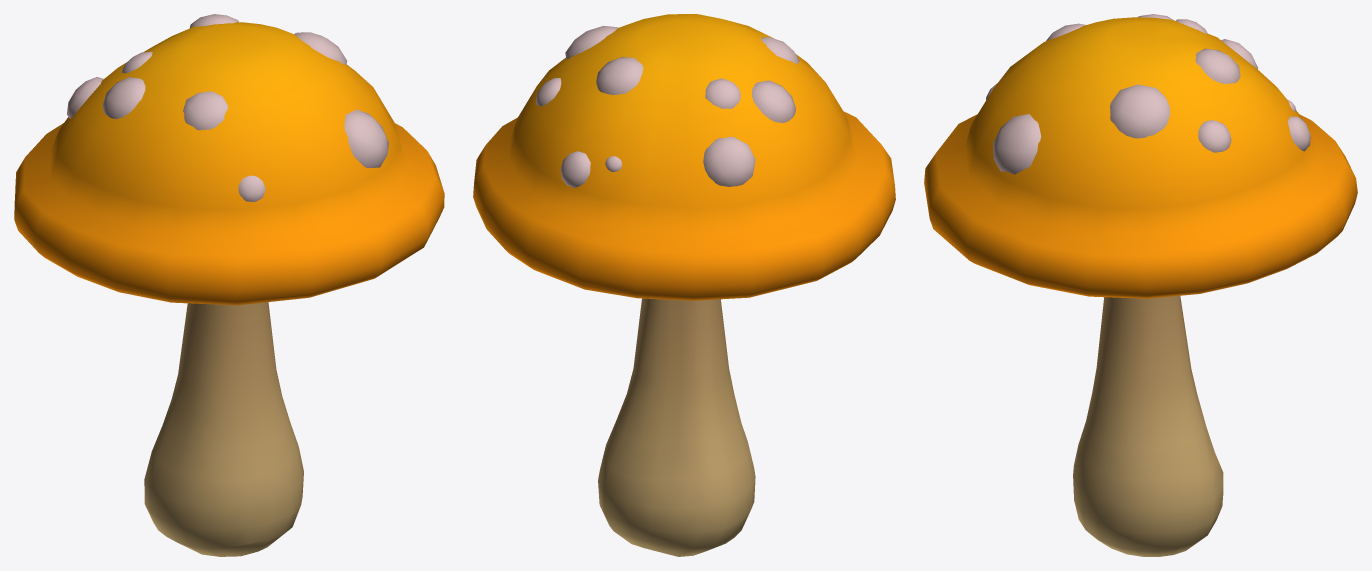
The model's file is mushroom 06.fbx.
3 views of the same model, side by side, from view 1: azimuth 30°, elevation 25°; view 2: azimuth 150°, elevation 25°; view 3: azimuth 270°, elevation 25° (orthographic).
Parts seen in each view (by area): view 1: Mushroom_0001_0006; view 2: Mushroom_0001_0006; view 3: Mushroom_0001_0006.
Boxes of the visible parts, left/top/right/bottom form: Mushroom_0001_0006: left=14, top=14, right=444, bottom=556; Mushroom_0001_0006: left=473, top=14, right=895, bottom=556; Mushroom_0001_0006: left=924, top=14, right=1357, bottom=556.
Bounding box in the file's own units: 20.92 × 27.2 × 21.18.
1 material, 1 textured.
